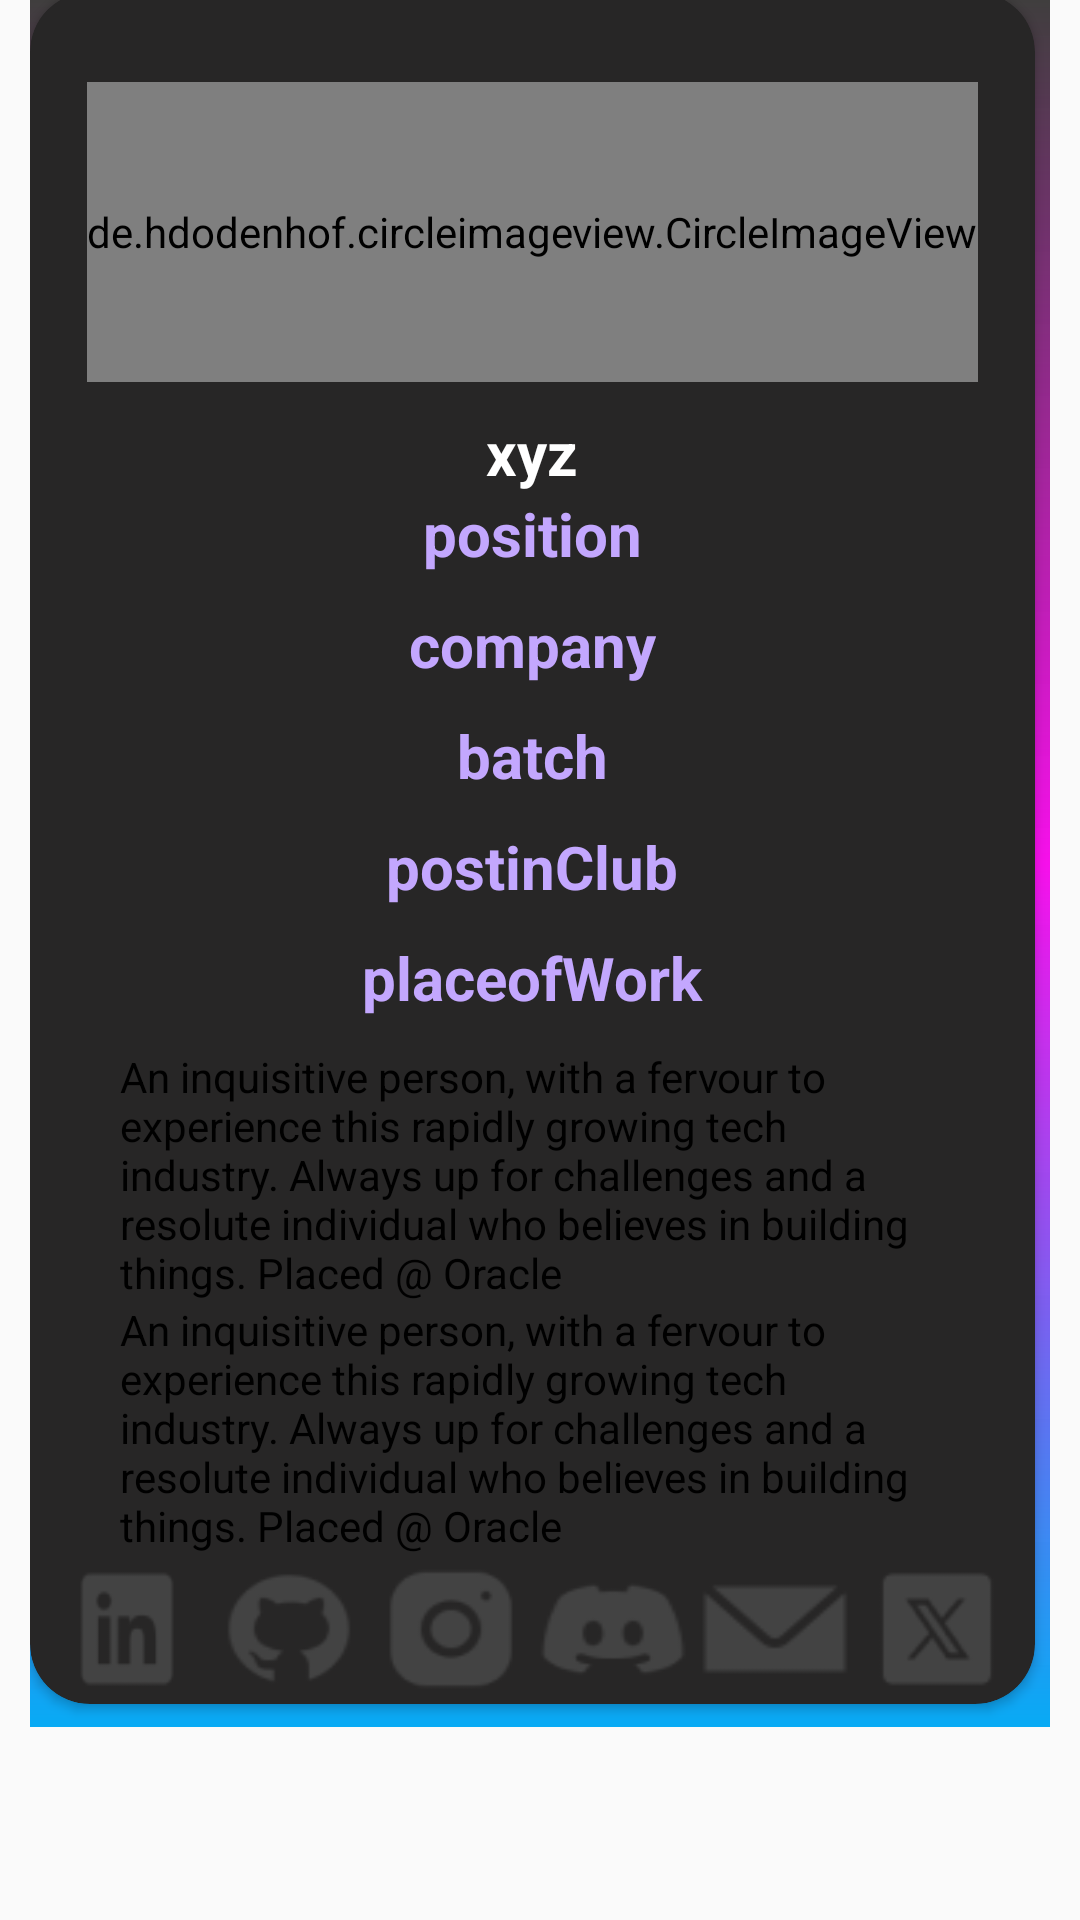

Point at icon controls on the screen. Image size 1080×1920, points as (x,y).
mail: (775,1629)
